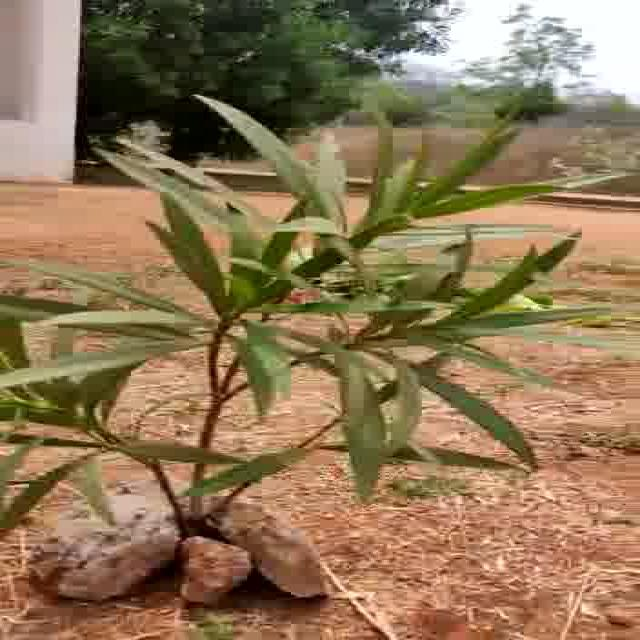OLEANDER: (1, 100, 604, 513)
